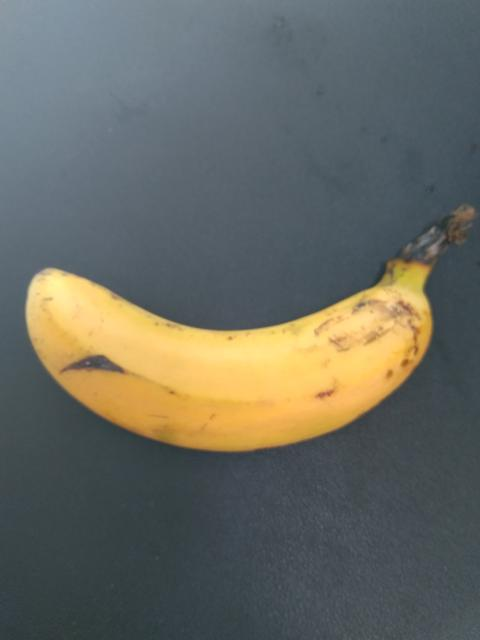ripe: (16, 241, 454, 481)
